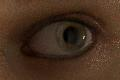eye: (54, 22, 88, 52)
